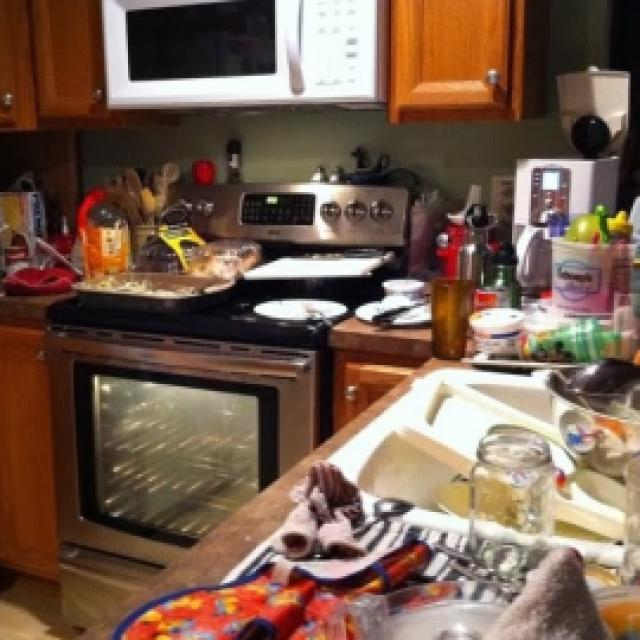scattered-items: (0, 125, 640, 394), (142, 400, 640, 640)
